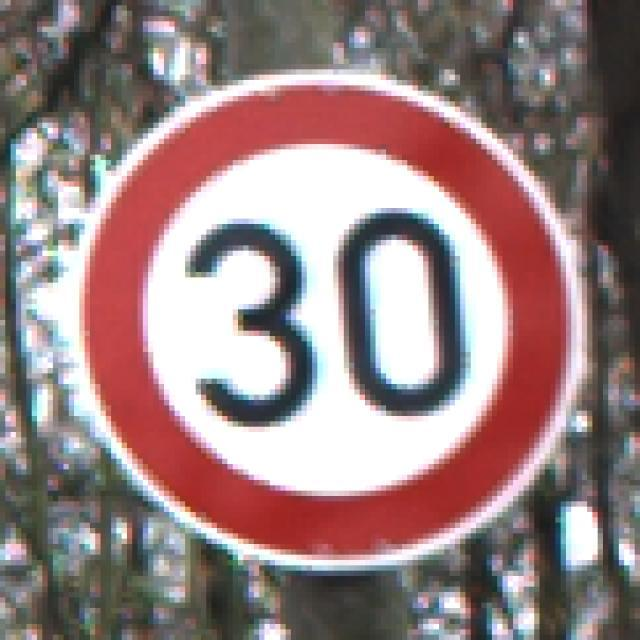Speed Limit -30-: (50, 59, 579, 576)
